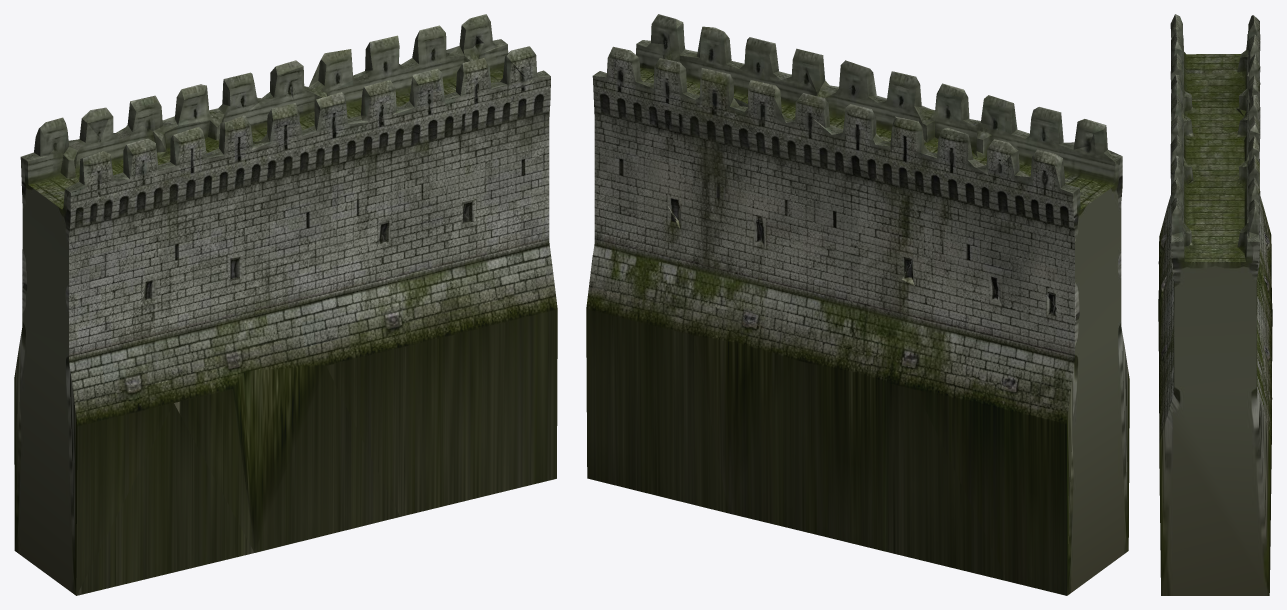
The model's file is wall.glb.
3 views of the same model, side by side, from view 1: azimuth 30°, elevation 25°; view 2: azimuth 150°, elevation 25°; view 3: azimuth 270°, elevation 25° (orthographic). The views are drawn at different scales.
Parts seen in each view (by area): view 1: wall_export; view 2: wall_export; view 3: wall_export.
Boxes of the visible parts, x1,y1,x2,y2 form: wall_export: [14, 14, 557, 595]; wall_export: [586, 14, 1129, 595]; wall_export: [1158, 14, 1272, 595].
Bounding box in the file's own units: 24 × 20.58 × 5.57.
2 materials, 2 textured.
